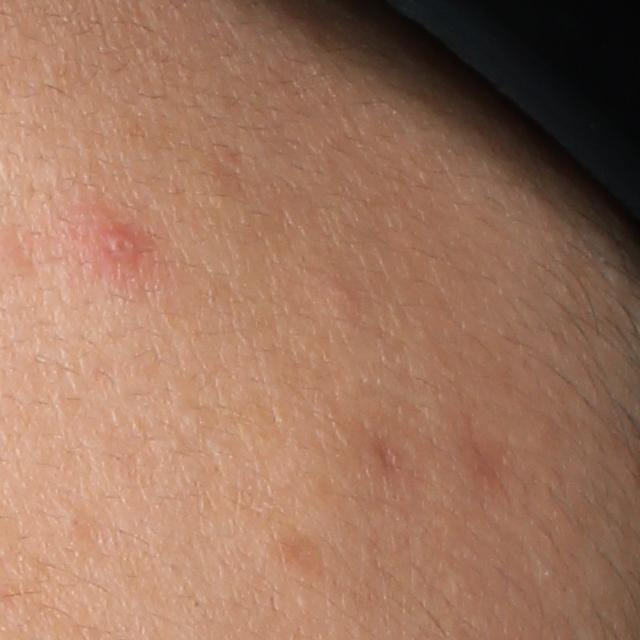papule: (99, 223, 144, 264)
